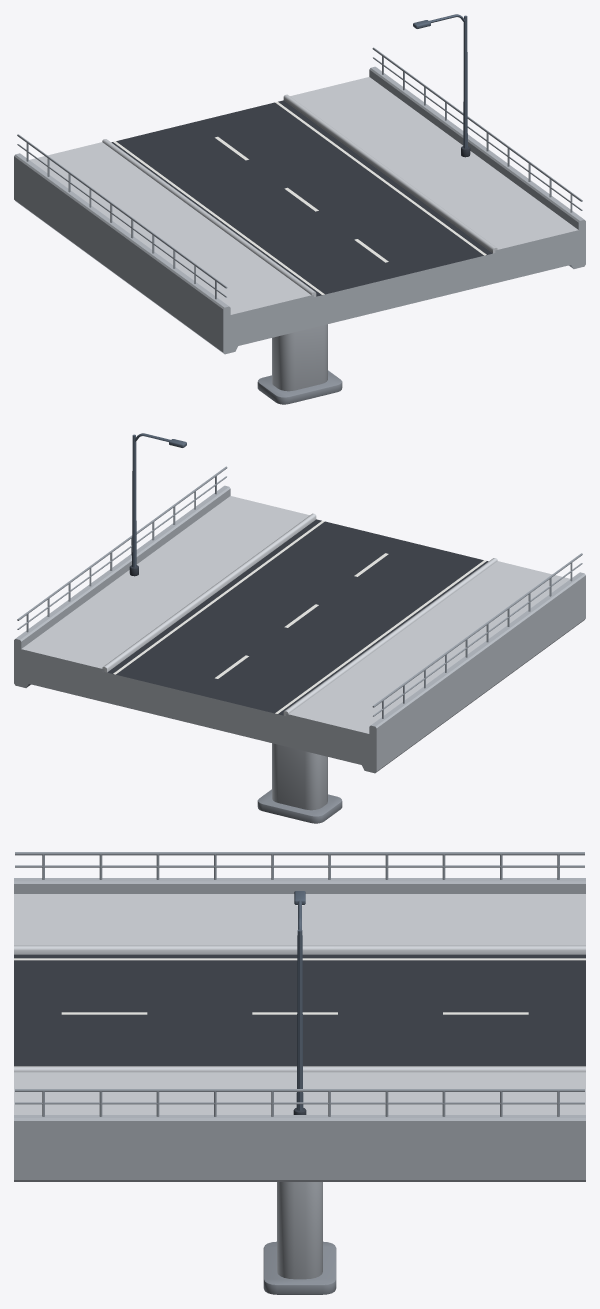
File: viaduto_rua.glb
The picture shows the model from 3 angles, top to bottom: view 1: azimuth 30°, elevation 25°; view 2: azimuth 150°, elevation 25°; view 3: azimuth 270°, elevation 25°; orthographic projection. The views are drawn at different scales.
Parts seen in each view (by area): view 1: viaduto_rua; view 2: viaduto_rua; view 3: viaduto_rua.
Boxes of the visible parts, bbox=[...] form: viaduto_rua: bbox=[14, 14, 585, 404]; viaduto_rua: bbox=[14, 433, 585, 823]; viaduto_rua: bbox=[14, 852, 585, 1294].
Bounding box in the file's own units: 15 × 13.3 × 15.
Materials: 2 (1 with a texture image).
